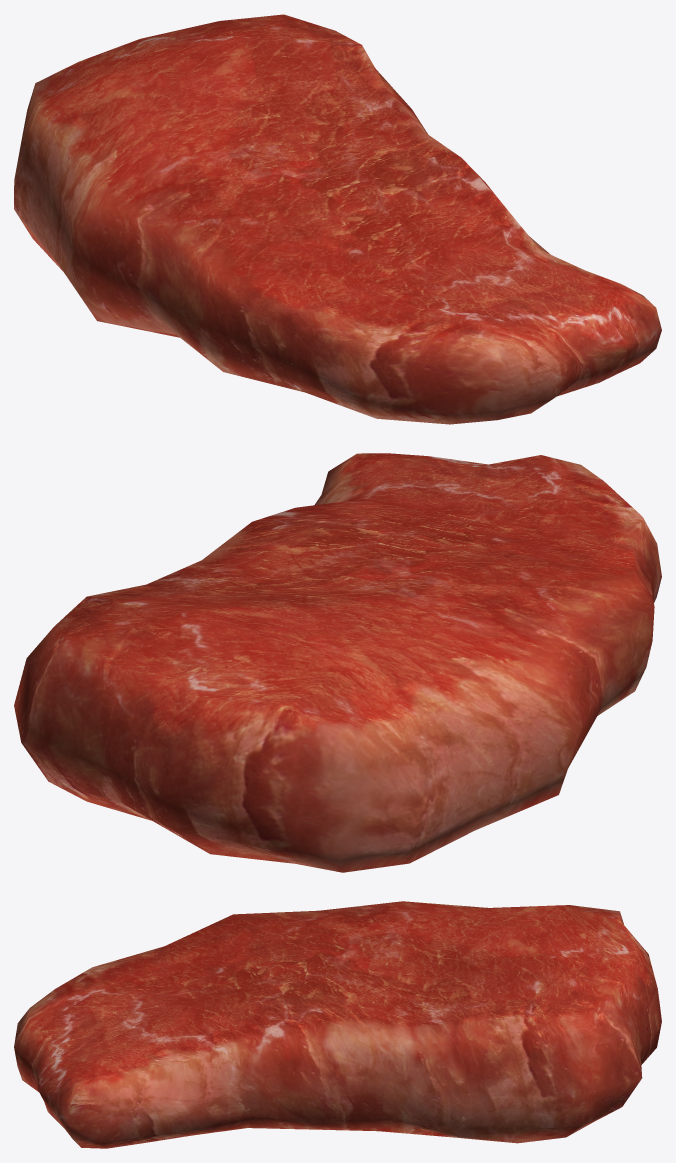
Rendered from SteakRaw.fbx.
3 renders of one model, top to bottom at view 1: azimuth 30°, elevation 25°; view 2: azimuth 150°, elevation 25°; view 3: azimuth 270°, elevation 25°, orthographic. The views are drawn at different scales.
Parts seen in each view (by area): view 1: Default_Layer; view 2: Default_Layer; view 3: Default_Layer.
Part boxes in pixels (<box>): Default_Layer: <box>14,14,661,424</box>; Default_Layer: <box>14,453,661,872</box>; Default_Layer: <box>14,901,661,1148</box>.
Bounding box in the file's own units: 24.66 × 10.59 × 40.28.
